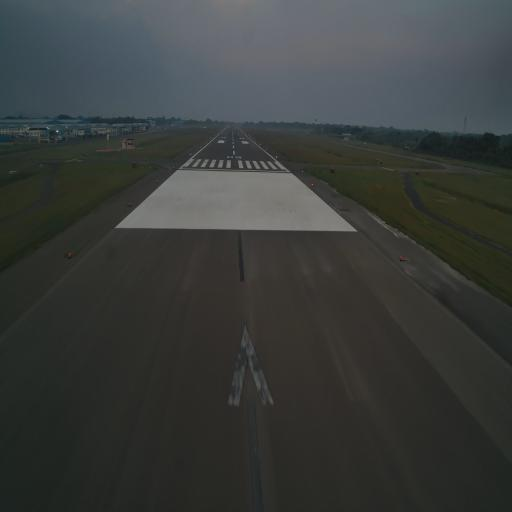on: (68, 250, 72, 260), (128, 199, 132, 208), (399, 253, 403, 261), (156, 179, 160, 184), (310, 182, 314, 187), (339, 204, 342, 210)
